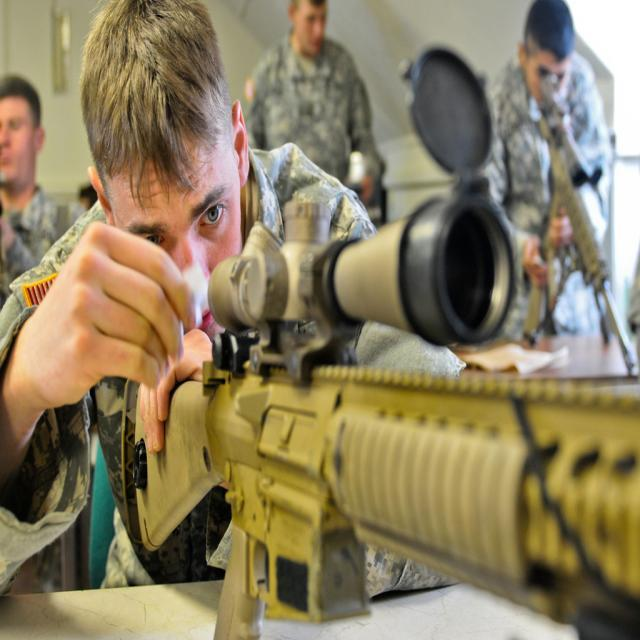weapon: (125, 41, 640, 640), (523, 72, 635, 374)
